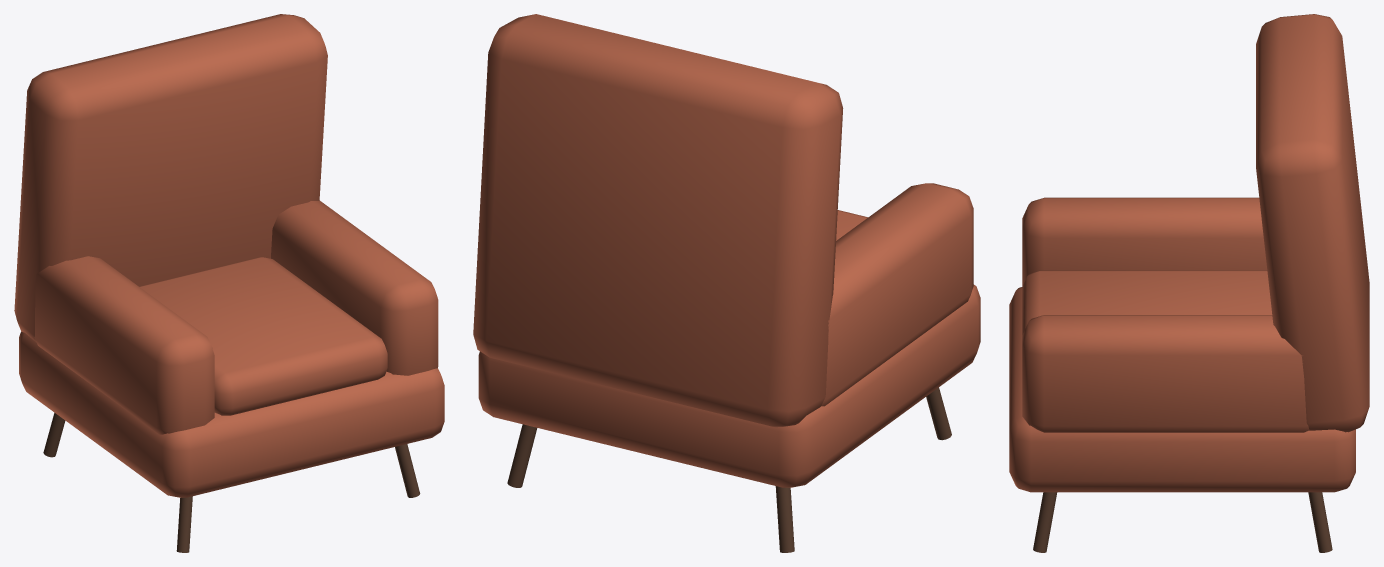
The model's file is i_arm_5.glb.
3 views of the same model, side by side, from view 1: azimuth 30°, elevation 25°; view 2: azimuth 150°, elevation 25°; view 3: azimuth 270°, elevation 25° (orthographic). The views are drawn at different scales.
Parts seen in each view (by area): view 1: o.002, o, o.001, o.003, o.004, o.005, o.007, o.006; view 2: o.002, o, o.003, o.006, o.008, o.005; view 3: o.002, o.004, o, o.003, o.001, o.007, o.008.
Part boxes in pixels (x1,y1,x2,y2): o.002: [14, 14, 327, 341]; o: [19, 331, 444, 497]; o.001: [140, 257, 387, 415]; o.003: [34, 256, 214, 434]; o.004: [271, 200, 438, 375]; o.005: [176, 496, 192, 552]; o.007: [395, 444, 420, 497]; o.006: [43, 412, 65, 457]; o.002: [473, 14, 843, 427]; o: [478, 284, 980, 487]; o.003: [821, 183, 973, 406]; o.006: [775, 486, 794, 552]; o.008: [507, 424, 537, 487]; o.005: [926, 387, 951, 440]; o.002: [1256, 14, 1369, 432]; o.004: [1022, 315, 1309, 432]; o: [1009, 287, 1355, 492]; o.003: [1022, 197, 1267, 286]; o.001: [1022, 270, 1272, 334]; o.007: [1033, 492, 1057, 552]; o.008: [1308, 492, 1332, 552].
Bounding box in the file's own units: 0.8 × 1.06 × 0.8309.
